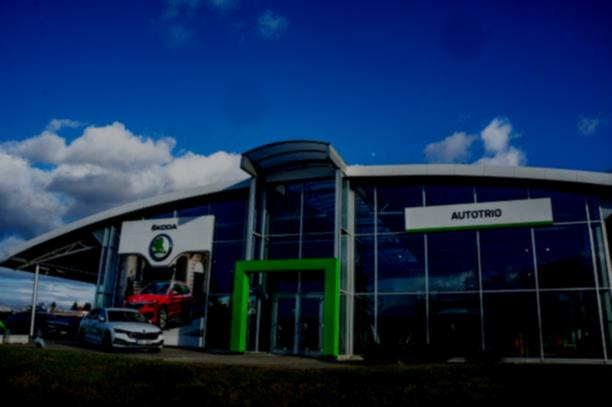skoda: (145, 234, 176, 263)
